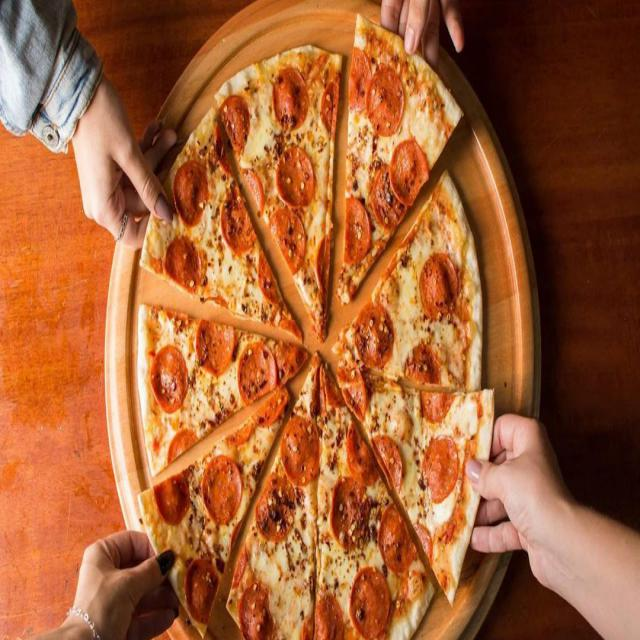pizza: (128, 13, 492, 639)
